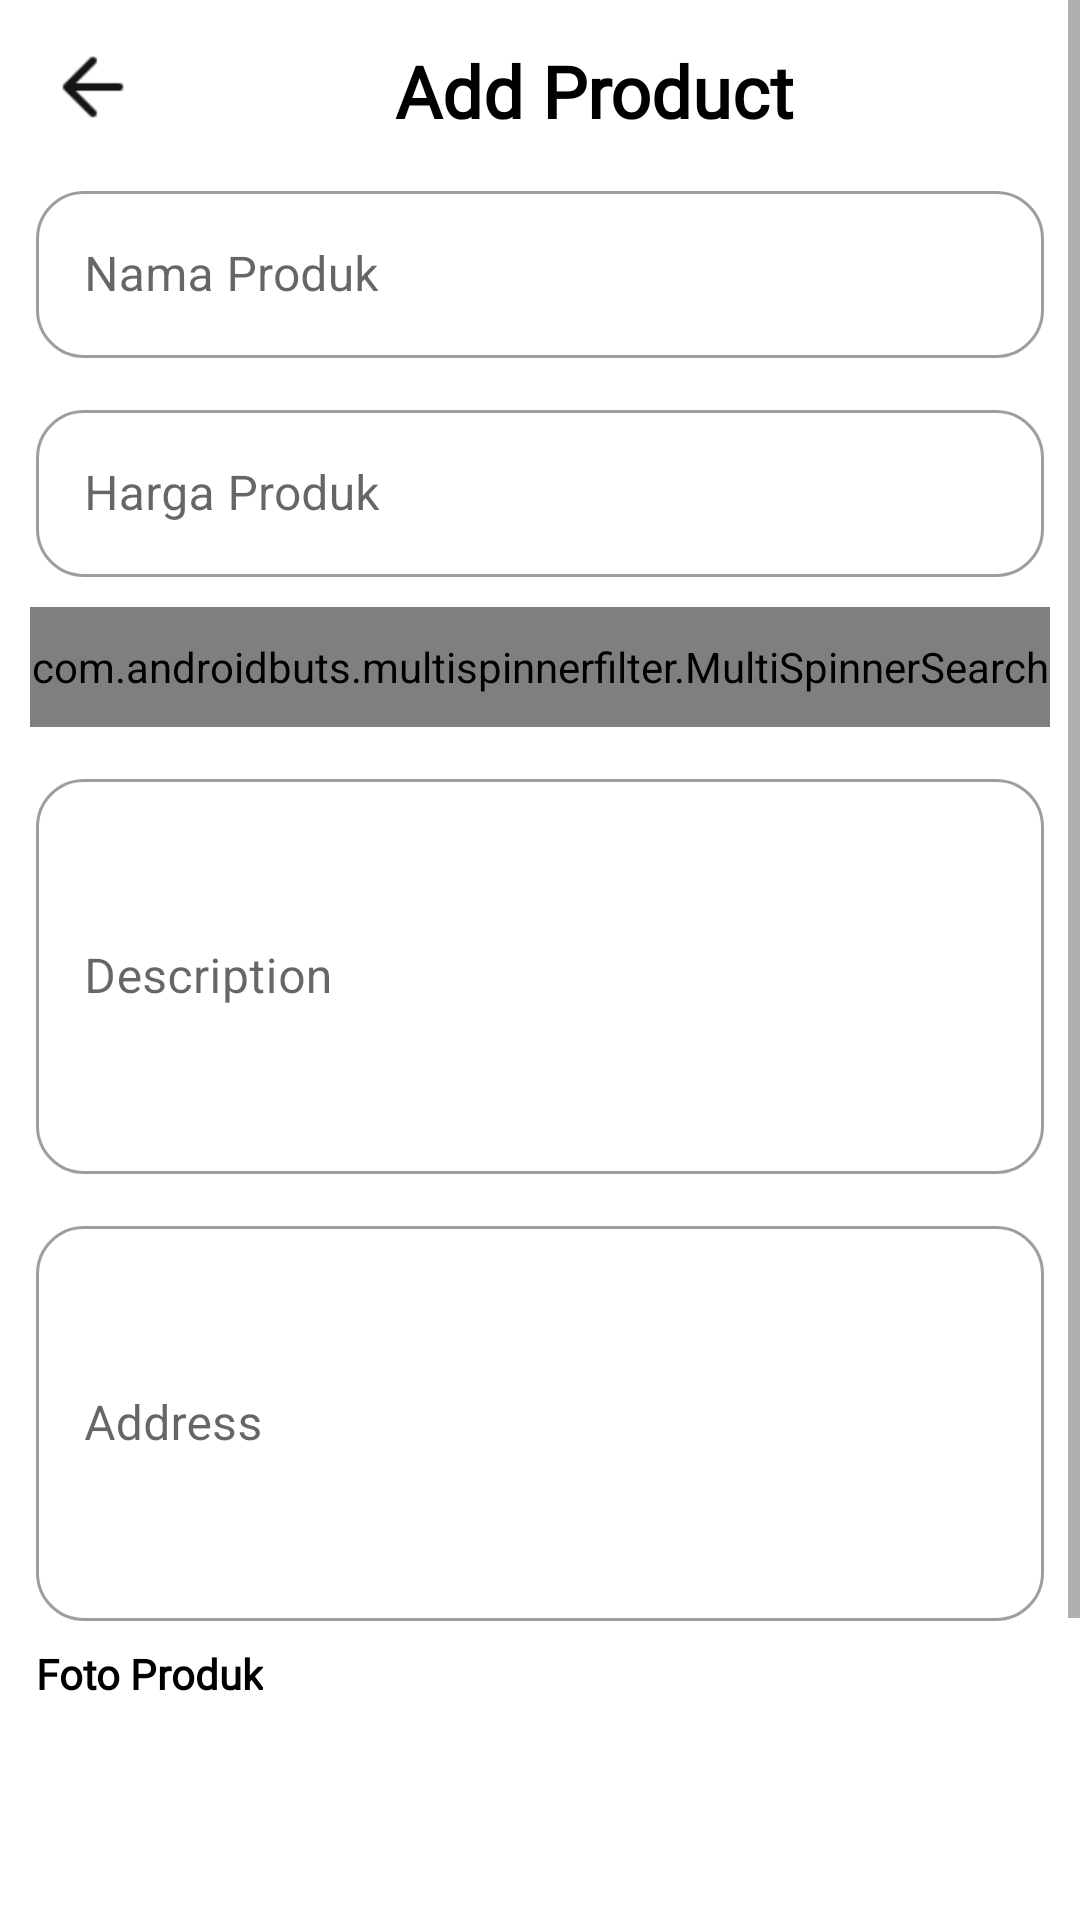

Where to tap for icons on this 1080 × 1920 app screen, as point (x, y):
back: point (93, 87)
